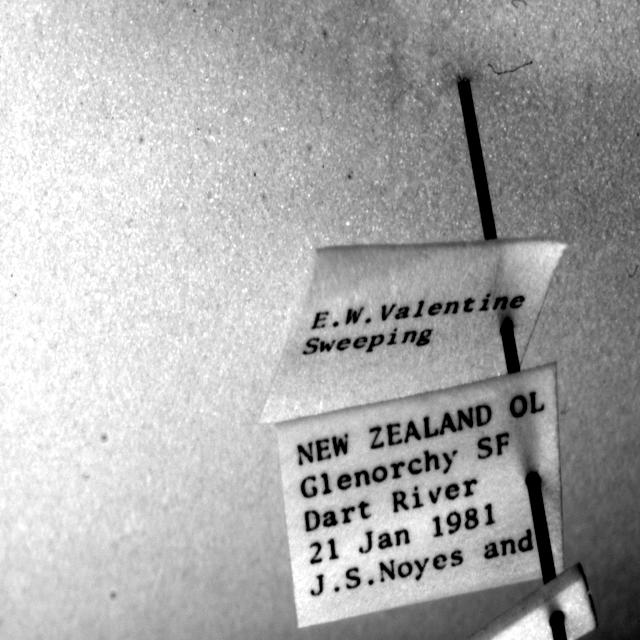typed_label: (278, 366, 564, 628), (261, 240, 565, 424)
